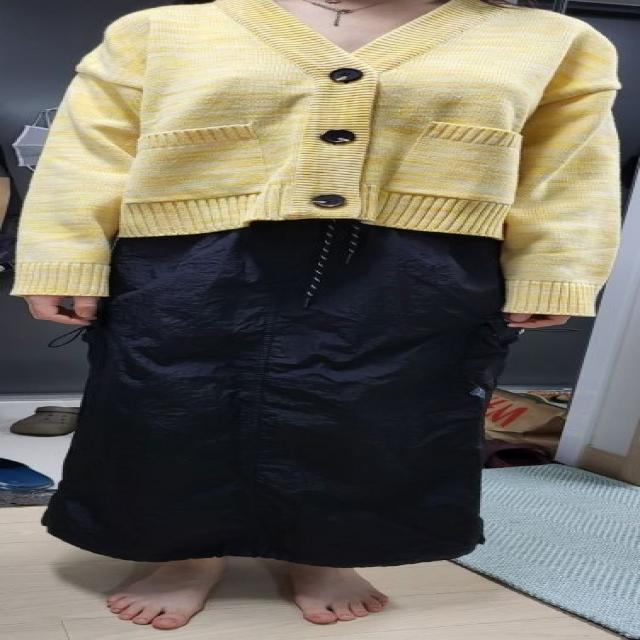cardigan: (19, 0, 620, 315)
skirt: (46, 216, 506, 566)
